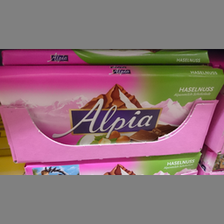chocolate: (1, 66, 224, 149)
